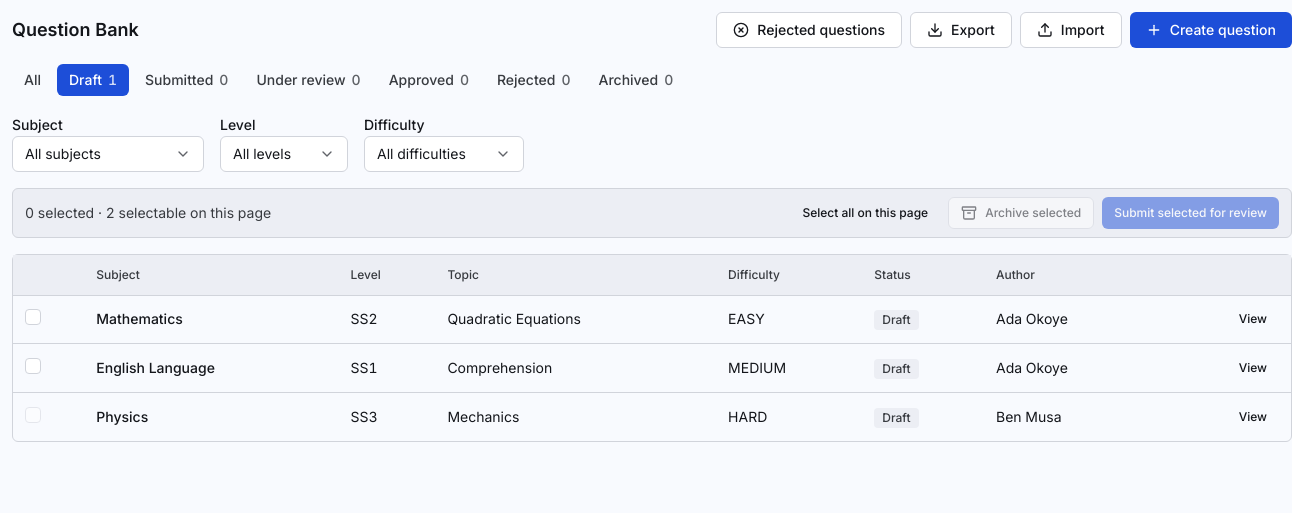
QuestionBankScreen › F9 bulk submit: select-all-on-page + submit sends only the owned ids
Click the button "Select all on this page" at [865, 213], box [790,197,940,229]
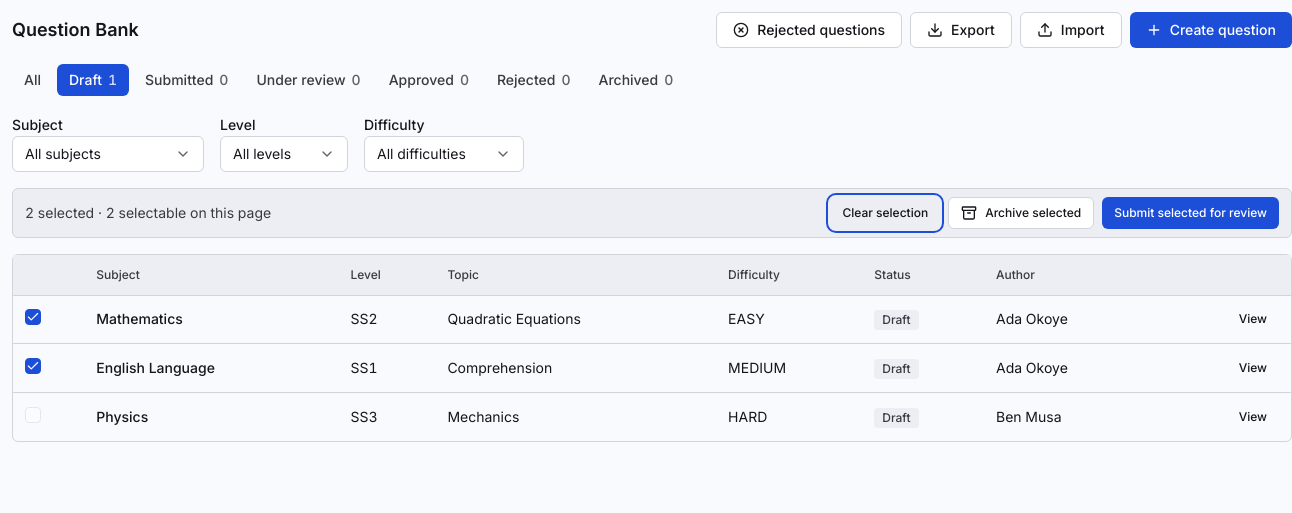
Click the button "Submit selected for review" at [1191, 213], box [1102,197,1279,229]
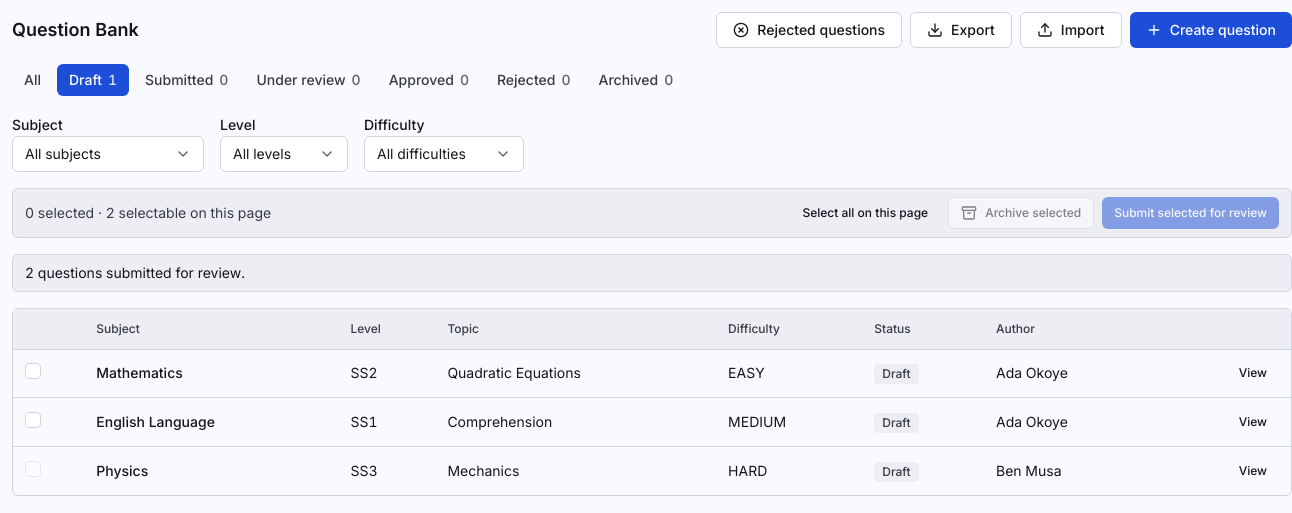
Expected: the text "2 questions submitted for review." is shown, [25,264,245,281]
Expected: the text "0 selected · 2 selectable on this page" is shown, [25,203,271,223]
